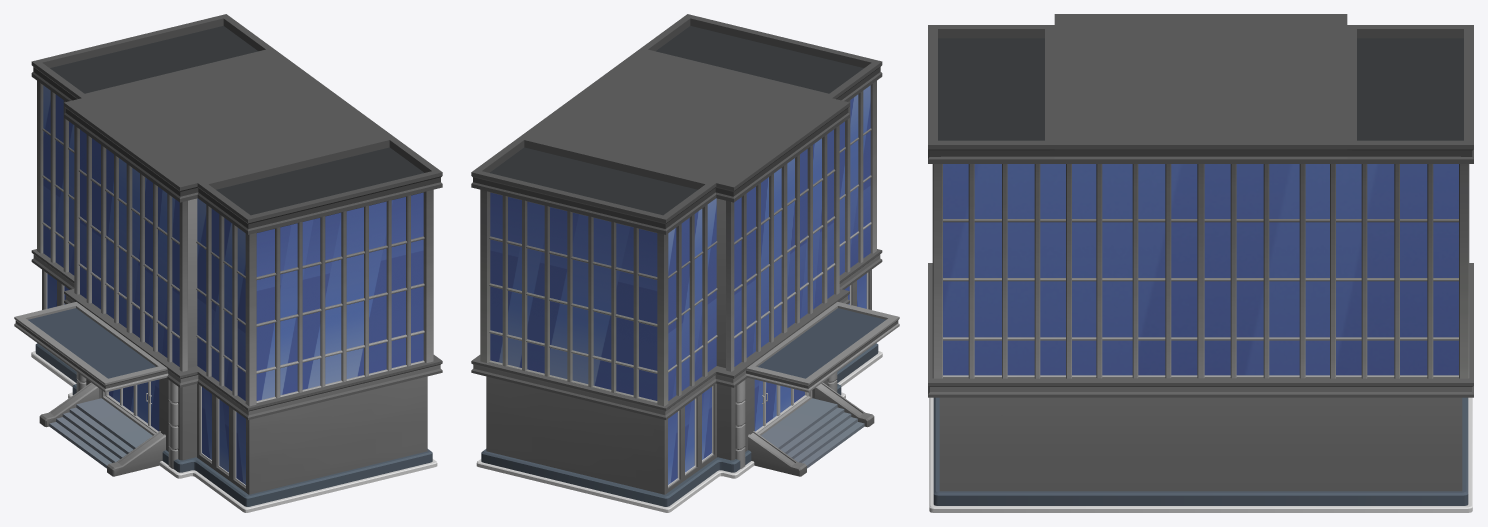
The model's file is Building_17_1_AA.fbx.
3 views of the same model, side by side, from view 1: azimuth 30°, elevation 25°; view 2: azimuth 150°, elevation 25°; view 3: azimuth 270°, elevation 25° (orthographic). The views are drawn at different scales.
Parts seen in each view (by area): view 1: Building_17_1_AA; view 2: Building_17_1_AA; view 3: Building_17_1_AA.
Part boxes in pixels (x1,y1,x2,y2): Building_17_1_AA: [14, 14, 442, 512]; Building_17_1_AA: [471, 14, 899, 512]; Building_17_1_AA: [928, 14, 1473, 512].
Size of the model in its own units: 857 by 875 by 1168.
